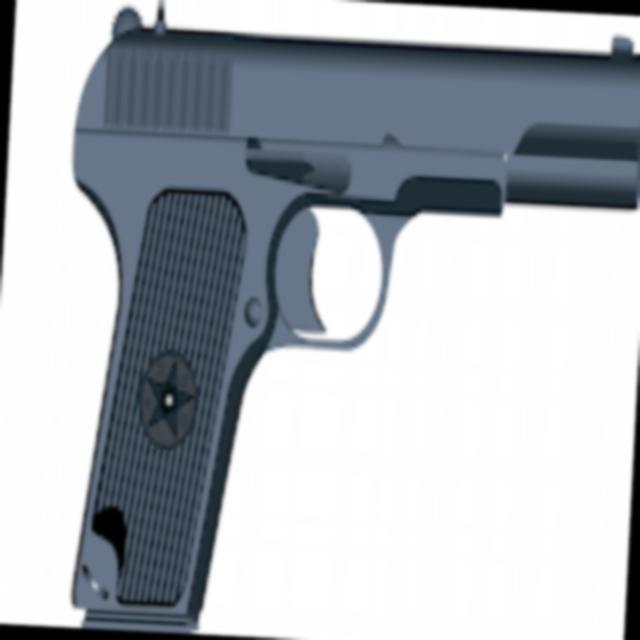semi automatic: (34, 0, 640, 640)
